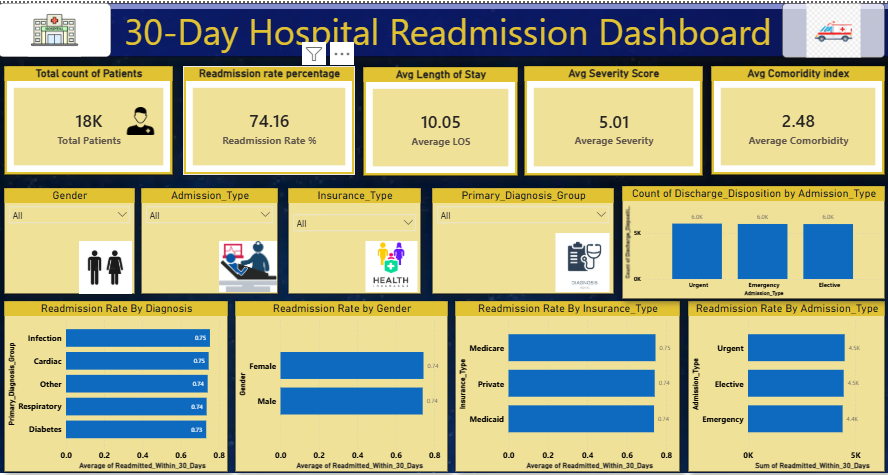

What the dashboard file says about the page in this screenshot:
{"tool":"powerbi","page":{"name":"Executive Summary","canvas":[1800,951],"ordinal":0},"visuals":[{"type":"textbox","box":[0,0,1800,108],"z":0},{"type":"image","box":[0,0,226,108],"z":1000},{"type":"image","box":[1568,0,206,110],"z":2000},{"type":"cardVisual","title":"Total count of Patients","fields":{"Data":["Hospital_Readmission_Cleaned.Total Patients"]},"box":[12,126,338,218],"z":3000},{"type":"image","box":[250,208,70,56],"z":4000},{"type":"cardVisual","title":"Readmission rate percentage","fields":{"Data":["Hospital_Readmission_Cleaned.Readmission Rate %"]},"box":[370,126,344,218],"z":5000},{"type":"cardVisual","title":"Avg Length of Stay","fields":{"Data":["Hospital_Readmission_Cleaned.Average LOS"]},"box":[730,128,310,218],"z":6000},{"type":"cardVisual","title":"Avg Severity Score","fields":{"Data":["Hospital_Readmission_Cleaned.Average Severity"]},"box":[1052,126,358,220],"z":7000},{"type":"cardVisual","title":"Avg Comoridity index","fields":{"Data":["Hospital_Readmission_Cleaned.Average Comorbidity"]},"box":[1426,126,348,218],"z":8000},{"type":"slicer","title":"Gender","fields":{"Values":["Hospital_Readmission_Cleaned.Gender"]},"box":[12,370,262,212],"z":9000},{"type":"slicer","title":"Admission_Type","fields":{"Values":["Hospital_Readmission_Cleaned.Admission_Type"]},"box":[286,370,274,212],"z":10000},{"type":"slicer","title":"Insurance_Type","fields":{"Values":["Hospital_Readmission_Cleaned.Insurance_Type"]},"box":[580,370,266,212],"z":11000},{"type":"slicer","title":"Primary_Diagnosis_Group","fields":{"Values":["Hospital_Readmission_Cleaned.Primary_Diagnosis_Group"]},"box":[868,370,364,212],"z":12000},{"type":"clusteredBarChart","title":"Readmission Rate By Diagnosis","fields":{"Category":["Hospital_Readmission_Cleaned.Primary_Diagnosis_Group"],"Y":["Avg(Hospital_Readmission_Cleaned.Readmitted_Within_30_Days)"]},"box":[12,596,448,342],"z":13000},{"type":"clusteredBarChart","title":"Readmission Rate by Gender","fields":{"Category":["Hospital_Readmission_Cleaned.Gender"],"Y":["Avg(Hospital_Readmission_Cleaned.Readmitted_Within_30_Days)"]},"box":[474,596,426,342],"z":14000},{"type":"clusteredBarChart","title":"Readmission Rate By Insurance_Type","fields":{"Y":["Avg(Hospital_Readmission_Cleaned.Readmitted_Within_30_Days)"],"Category":["Hospital_Readmission_Cleaned.Insurance_Type"]},"box":[914,596,450,342],"z":15000},{"type":"clusteredBarChart","title":"Readmission Rate By Admission_Type","fields":{"Y":["Sum(Hospital_Readmission_Cleaned.Readmitted_Within_30_Days)"],"Category":["Hospital_Readmission_Cleaned.Admission_Type"]},"box":[1380,596,394,342],"z":16000},{"type":"clusteredColumnChart","fields":{"Category":["Hospital_Readmission_Cleaned.Admission_Type"],"Y":["CountNonNull(Hospital_Readmission_Cleaned.Discharge_Disposition)"]},"box":[1248,366,526,226],"z":17000},{"type":"image","box":[156,476,118,106],"z":18000},{"type":"image","box":[350,476,300,102],"z":19000},{"type":"image","box":[730,476,114,102],"z":20000},{"type":"image","box":[1106,460,126,118],"z":21000}]}

Visuals, with their boxes in screenshot pixels (x1, y1, x2, y2), scaled from the page's 1800x951 canvas onto the 888x475 screenshot:
textbox: (0,0,887,54)
image: (0,0,111,54)
image: (774,0,875,55)
"Total count of Patients" cardVisual: (6,63,173,172)
image: (123,104,158,132)
"Readmission rate percentage" cardVisual: (183,63,352,172)
"Avg Length of Stay" cardVisual: (360,64,513,173)
"Avg Severity Score" cardVisual: (519,63,696,173)
"Avg Comoridity index" cardVisual: (703,63,875,172)
"Gender" slicer: (6,185,135,291)
"Admission_Type" slicer: (141,185,276,291)
"Insurance_Type" slicer: (286,185,417,291)
"Primary_Diagnosis_Group" slicer: (428,185,608,291)
"Readmission Rate By Diagnosis" clusteredBarChart: (6,298,227,469)
"Readmission Rate by Gender" clusteredBarChart: (234,298,444,469)
"Readmission Rate By Insurance_Type" clusteredBarChart: (451,298,673,469)
"Readmission Rate By Admission_Type" clusteredBarChart: (681,298,875,469)
clusteredColumnChart - Hospital_Readmission_Cleaned.Admission_Type x CountNonNull(Hospital_Readmission_Cleaned.Discharge_Disposition): (616,183,875,296)
image: (77,238,135,291)
image: (173,238,321,289)
image: (360,238,416,289)
image: (546,230,608,289)
